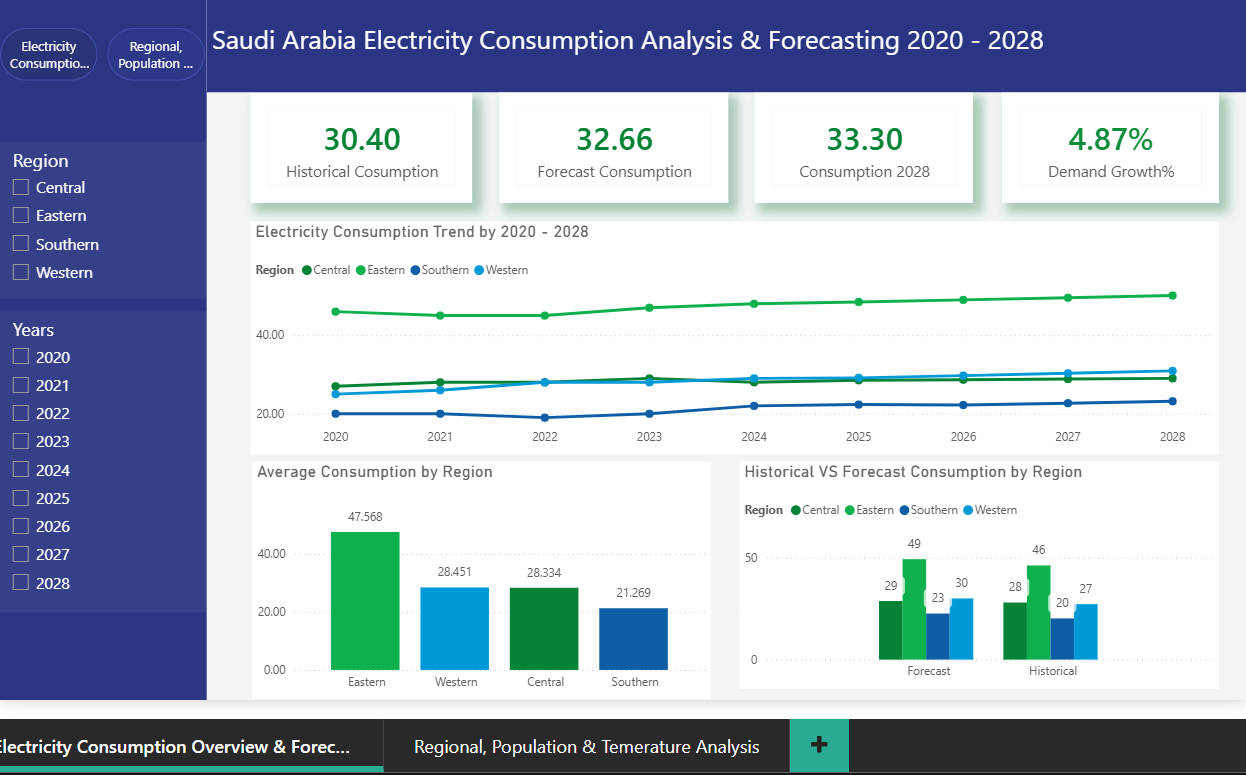

Layout of this report page (visuals, bound fields, positions):
{"tool":"powerbi","page":{"name":"Electricity Consumption Overview & Forecast","canvas":[1280,720],"ordinal":0},"visuals":[{"type":"shape","box":[0,0,212,720.8],"z":0},{"type":"slicer","fields":{"Values":["Power_Data.Region"]},"box":[0,148.4,212,160.5],"z":1000},{"type":"slicer","fields":{"Values":["Power_Data.Years"]},"box":[0,321,212,308.9],"z":2000},{"type":"lineChart","title":"Electricity Consumption Trend  by 2020 - 2028","fields":{"Category":["Power_Data.Years"],"Series":["Power_Data.Region"],"Y":["Power_Data.Average Consumption"]},"box":[257.4,228.6,993.3,239.2],"z":3000},{"type":"lineClusteredColumnComboChart","title":"Average Consumption by Region","fields":{"Category":["Power_Data.Region"],"Y":["Power_Data.Average Consumption"]},"box":[258.9,475.5,470.9,243.8],"z":4000},{"type":"lineClusteredColumnComboChart","title":"Historical VS Forecast Consumption by Region","fields":{"Category":["Power_Data.Data_Type"],"Series":["Power_Data.Region"],"Y":["Power_Data.Average Consumption"]},"box":[758.6,475.5,492.1,233.2],"z":5000},{"type":"cardVisual","fields":{"Data":["Power_Data.Historical Cosumption"]},"box":[257.4,96.9,227.1,113.6],"z":6000},{"type":"textbox","box":[212,0,1067.5,96.9],"z":7000},{"type":"cardVisual","fields":{"Data":["Power_Data.Forecast Consumption"]},"box":[511.8,96.9,234.7,113.6],"z":8000},{"type":"cardVisual","fields":{"Data":["Power_Data.Demand Growth%"]},"box":[1028.1,96.9,222.6,113.6],"z":9000},{"type":"cardVisual","fields":{"Data":["Power_Data.Consumption 2028"]},"box":[773.8,96.9,224.1,113.6],"z":10000},{"type":"pageNavigator","box":[0,30.3,212,54.5],"z":11000}]}

Visuals, with their boxes on the page's 1280x720 design canvas (x1, y1, x2, y2). These are canvas units, not pixel positions in the 1246x775 screenshot, which may show the page scaled, cropped or inside an application window:
shape: 0,0,212,721
slicer - Power_Data.Region: 0,148,212,309
slicer - Power_Data.Years: 0,321,212,630
"Electricity Consumption Trend  by 2020 - 2028" lineChart: 257,229,1251,468
"Average Consumption by Region" lineClusteredColumnComboChart: 259,476,730,719
"Historical VS Forecast Consumption by Region" lineClusteredColumnComboChart: 759,476,1251,709
cardVisual - Power_Data.Historical Cosumption: 257,97,484,210
textbox: 212,0,1280,97
cardVisual - Power_Data.Forecast Consumption: 512,97,746,210
cardVisual - Power_Data.Demand Growth%: 1028,97,1251,210
cardVisual - Power_Data.Consumption 2028: 774,97,998,210
pageNavigator: 0,30,212,85
